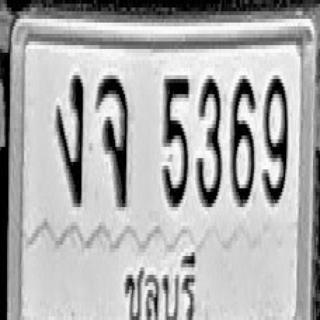A07: (56, 70, 84, 205)
A08: (95, 72, 128, 207)
N03: (196, 73, 222, 205)
N05: (162, 73, 189, 205)
N06: (230, 73, 255, 205)
N09: (262, 72, 288, 203)
P13: (118, 245, 198, 320)
